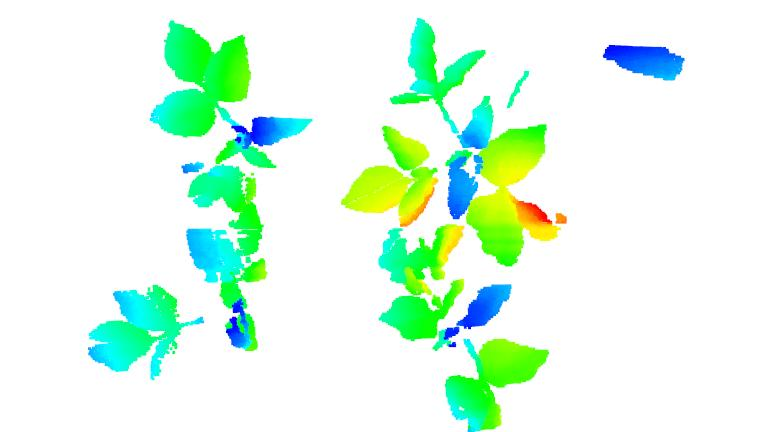mungbean: (333, 14, 571, 269), (369, 223, 552, 432), (143, 16, 319, 211), (85, 209, 273, 384)
